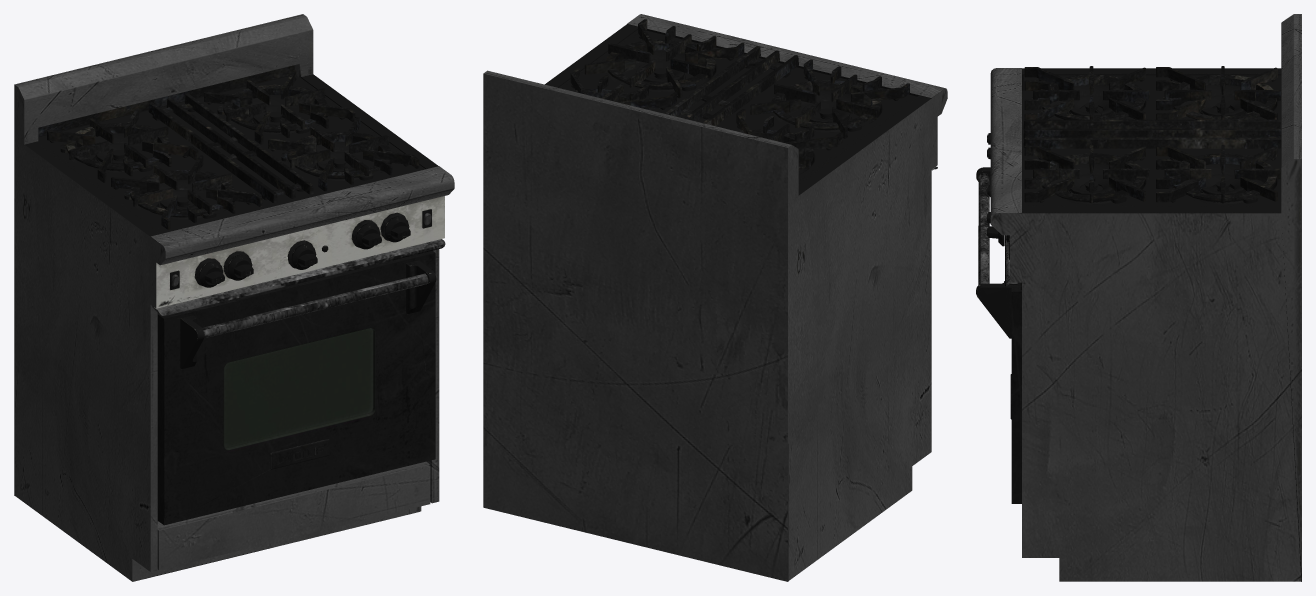
The model's file is stove.glb.
3 views of the same model, side by side, from view 1: azimuth 30°, elevation 25°; view 2: azimuth 150°, elevation 25°; view 3: azimuth 270°, elevation 25° (orthographic). The views are drawn at different scales.
Visible parts, largest first — view 1: Object_2; view 2: Object_2; view 3: Object_2.
Part boxes in pixels (x1,y1,x2,y2): Object_2: [14, 14, 454, 581]; Object_2: [483, 14, 947, 581]; Object_2: [976, 14, 1301, 581].
Size of the model in its own units: 30 by 40.85 by 28.52.
Materials: 1 (1 with a texture image).
